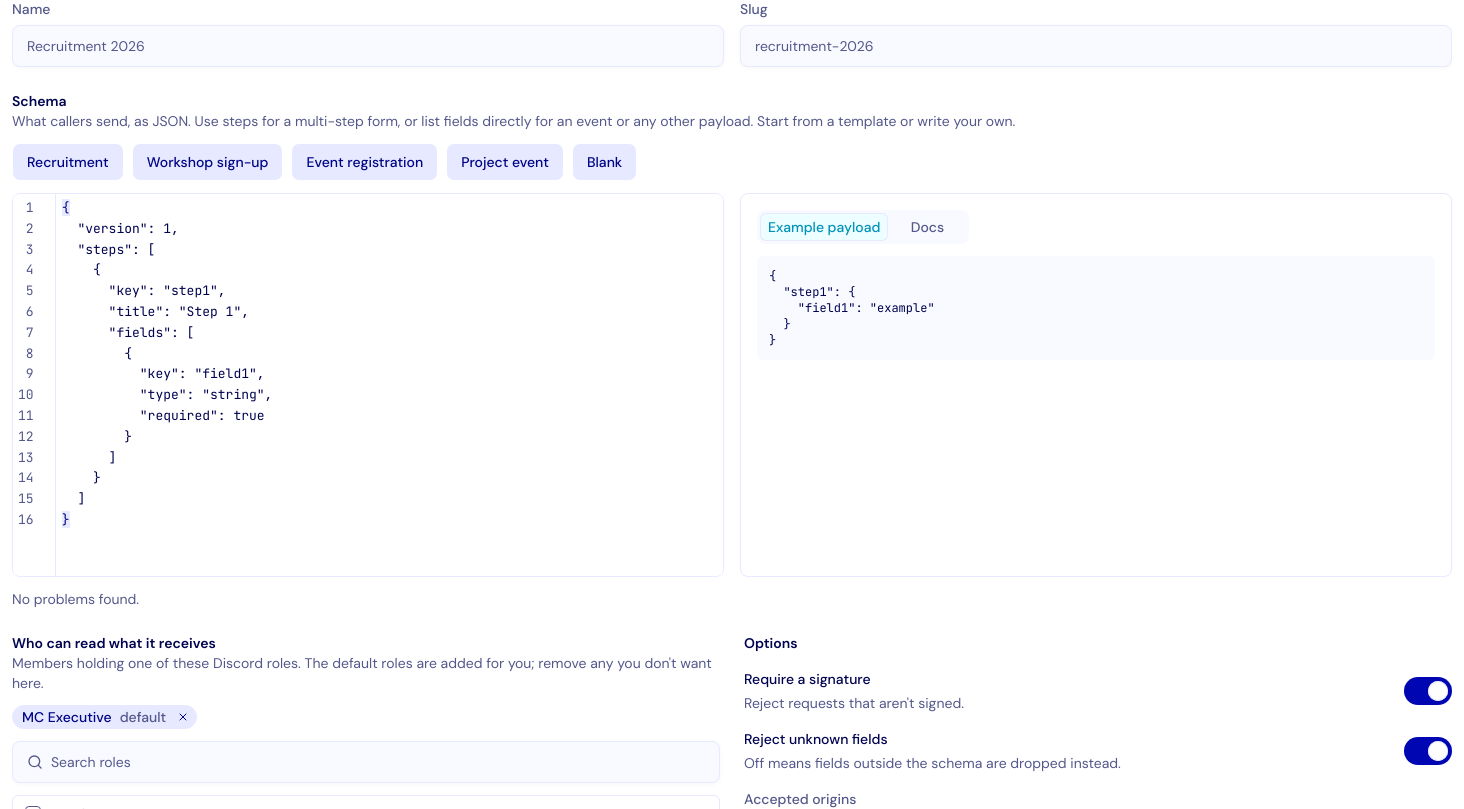
Test: Create inbound webhook › will not submit without a reader role
In the field labelled "Name": (368, 46) [13, 26, 723, 66], type "Recruitment"
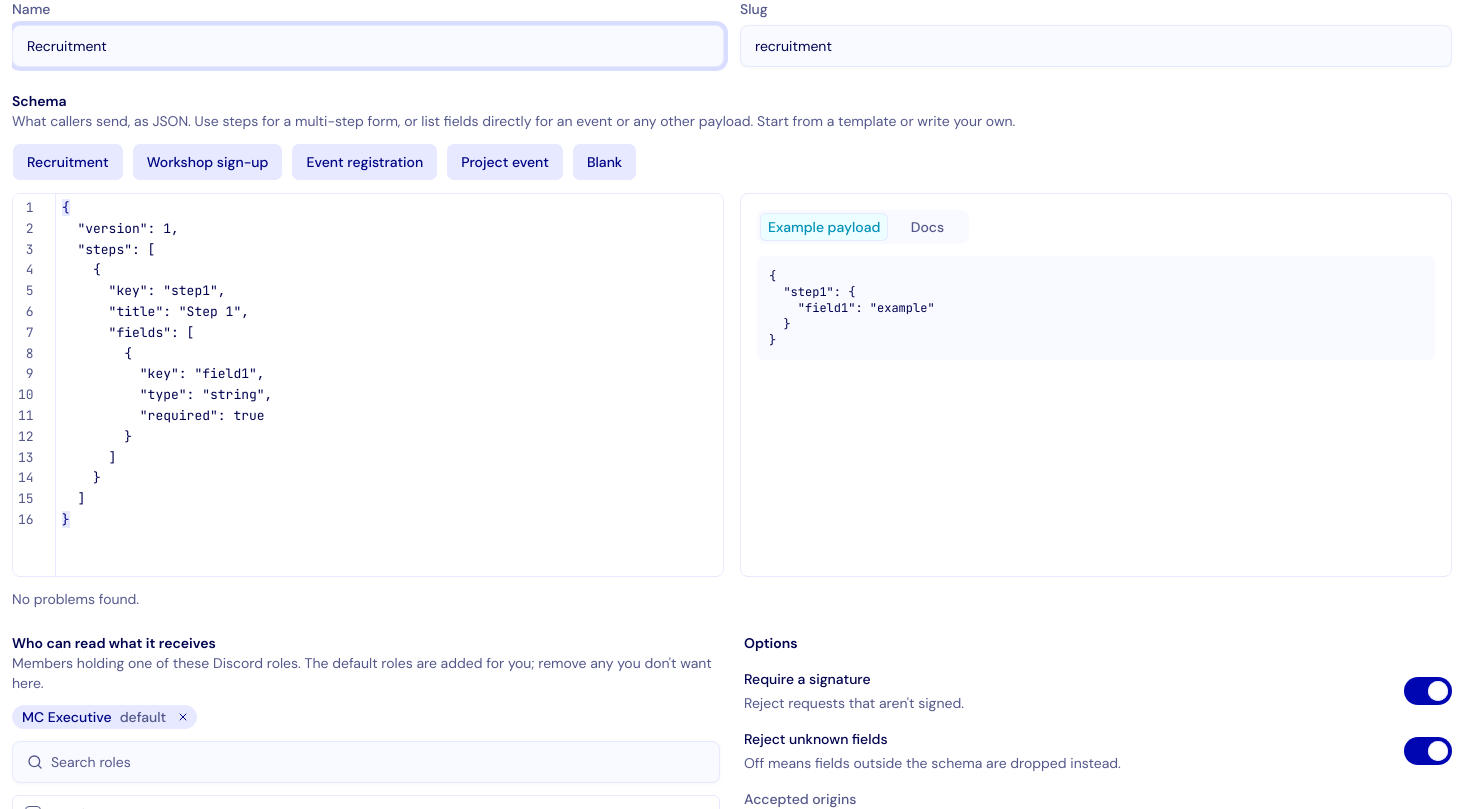
Click the button named "Remove MC Executive": (183, 717) [174, 708, 192, 726]
(page scrolled)
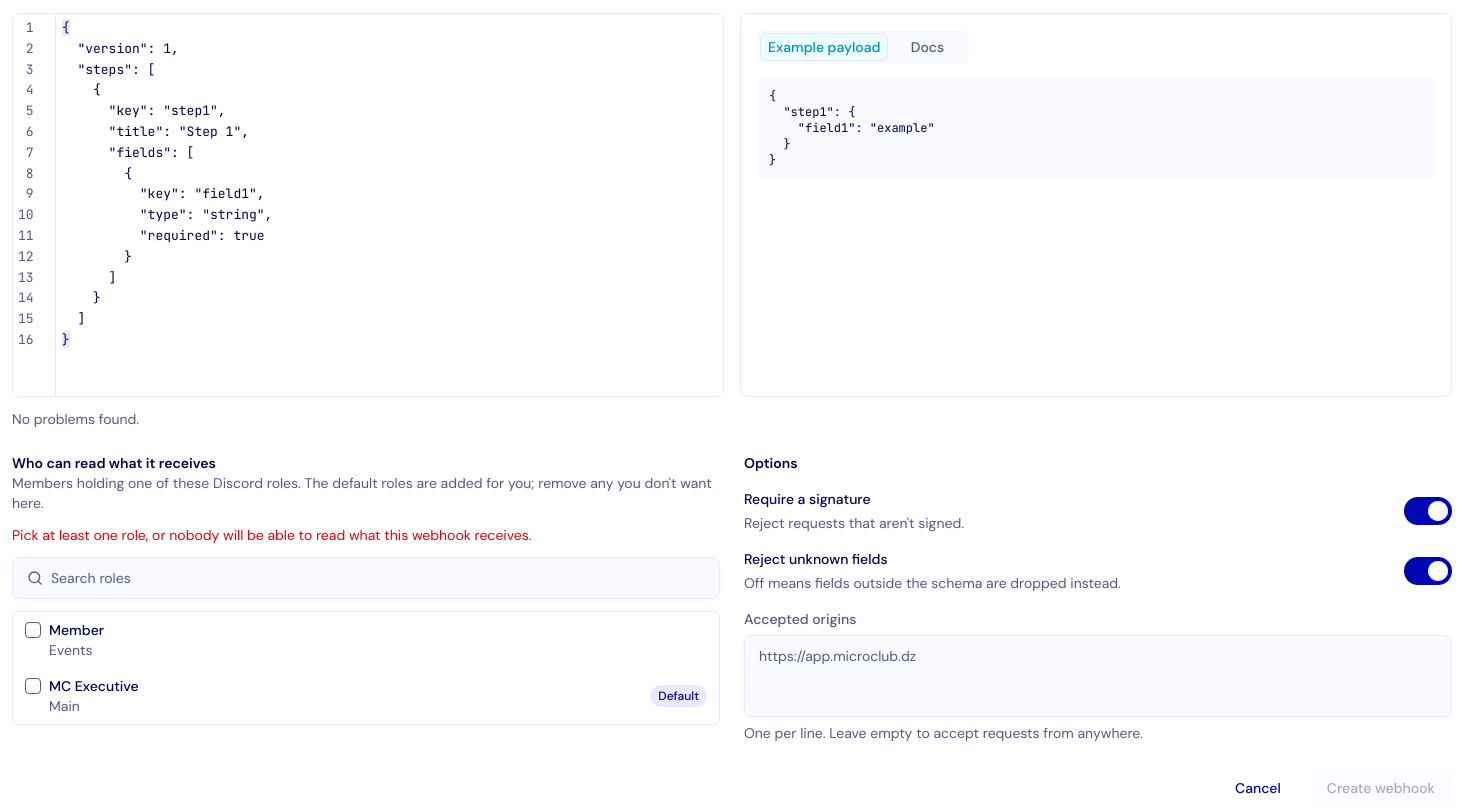
Now the button "Create webhook" is disabled, box [1310, 767, 1452, 808]
